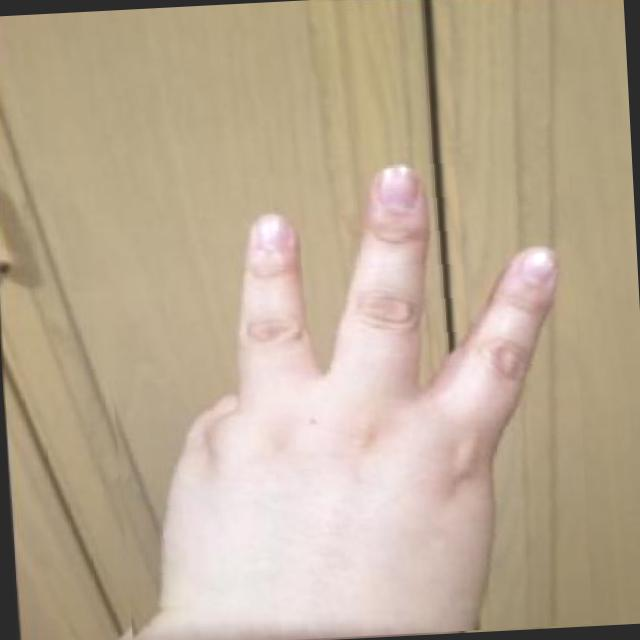W: (93, 127, 592, 640)
